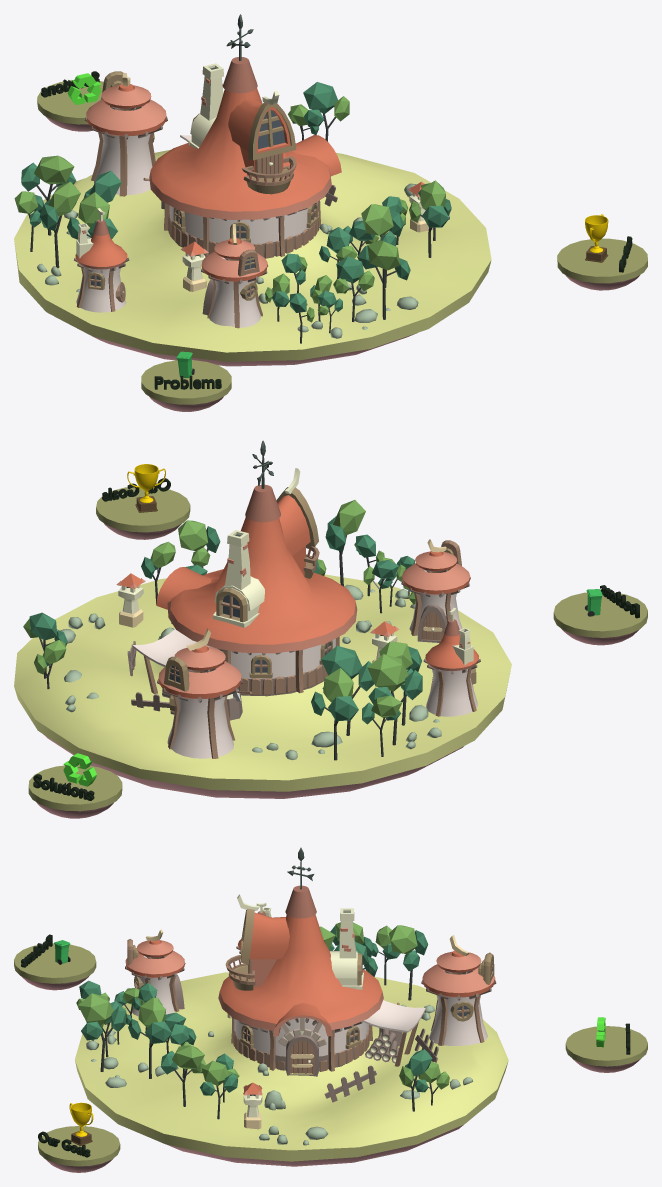
The picture shows the model from 3 angles, top to bottom: view 1: azimuth 30°, elevation 25°; view 2: azimuth 150°, elevation 25°; view 3: azimuth 270°, elevation 25°; orthographic projection. The views are drawn at different scales.
Parts seen in each view (by area): view 1: pCylinder11, polySurface11, polySurface1188.002, polySurface1188, polySurface12, polySurface345, polySurface16, polySurface342, polySurface1054, polySurface840, polySurface1188.001, pSphere1 (+22 smaller); view 2: pCylinder11, polySurface11, polySurface1188.002, polySurface1188, polySurface345, polySurface1188.001, pSphere1, polySurface342, polySurface1122, polySurface12, polySurface1054, polySurface838 (+28 smaller); view 3: pCylinder11, polySurface11, polySurface1188.001, polySurface1188, polySurface1188.002, polySurface16, polySurface345, polySurface12, polySurface342, polySurface1054, pSphere1, polySurface900 (+24 smaller).
Boxes of the visible parts, bbox=[...] form: pCylinder11: bbox=[14, 149, 491, 361]; polySurface11: bbox=[149, 88, 331, 219]; polySurface1188.002: bbox=[557, 238, 647, 283]; polySurface1188: bbox=[141, 360, 231, 404]; polySurface12: bbox=[169, 202, 317, 244]; polySurface345: bbox=[94, 107, 152, 194]; polySurface16: bbox=[228, 98, 290, 177]; polySurface342: bbox=[86, 99, 166, 136]; polySurface1054: bbox=[288, 82, 349, 141]; polySurface840: bbox=[209, 257, 260, 327]; polySurface1188.001: bbox=[37, 80, 103, 124]; pSphere1: bbox=[54, 316, 416, 366]; pCylinder11: bbox=[14, 574, 511, 791]; polySurface11: bbox=[167, 517, 357, 653]; polySurface1188.002: bbox=[96, 487, 190, 532]; polySurface1188: bbox=[553, 592, 647, 637]; polySurface345: bbox=[167, 668, 233, 758]; polySurface1188.001: bbox=[28, 765, 122, 811]; pSphere1: bbox=[43, 734, 463, 798]; polySurface342: bbox=[158, 661, 241, 698]; polySurface1122: bbox=[426, 668, 477, 716]; polySurface12: bbox=[222, 638, 335, 678]; polySurface1054: bbox=[23, 612, 67, 689]; polySurface838: bbox=[402, 563, 470, 594]; pCylinder11: bbox=[75, 972, 508, 1161]; polySurface11: bbox=[218, 914, 383, 1030]; polySurface1188.001: bbox=[565, 1026, 647, 1066]; polySurface1188: bbox=[14, 943, 96, 983]; polySurface1188.002: bbox=[38, 1126, 120, 1166]; polySurface16: bbox=[249, 912, 289, 987]; polySurface345: bbox=[429, 971, 487, 1045]; polySurface12: bbox=[234, 1018, 368, 1056]; polySurface342: bbox=[422, 964, 495, 997]; polySurface1054: bbox=[399, 1049, 449, 1111]; pSphere1: bbox=[167, 1125, 463, 1166]; polySurface900: bbox=[363, 1000, 425, 1032].
Size of the model in its own units: 112 by 61.76 by 134.
